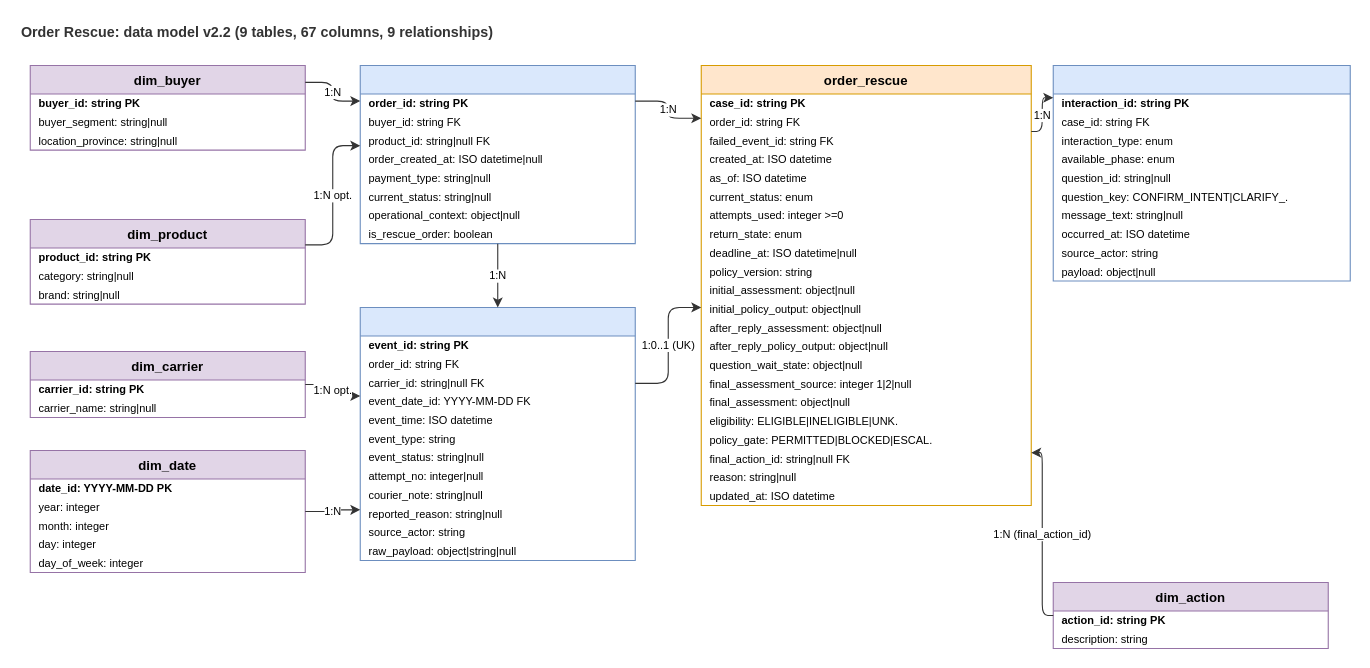
Image size: 1370x668. Some labels were removed from this diagram. Each missing label, with the box of its shape:
fact_delivery_event: (359, 306, 635, 560)
fact_order: (359, 64, 635, 244)
fact_rescue_interaction: (1052, 64, 1350, 281)
